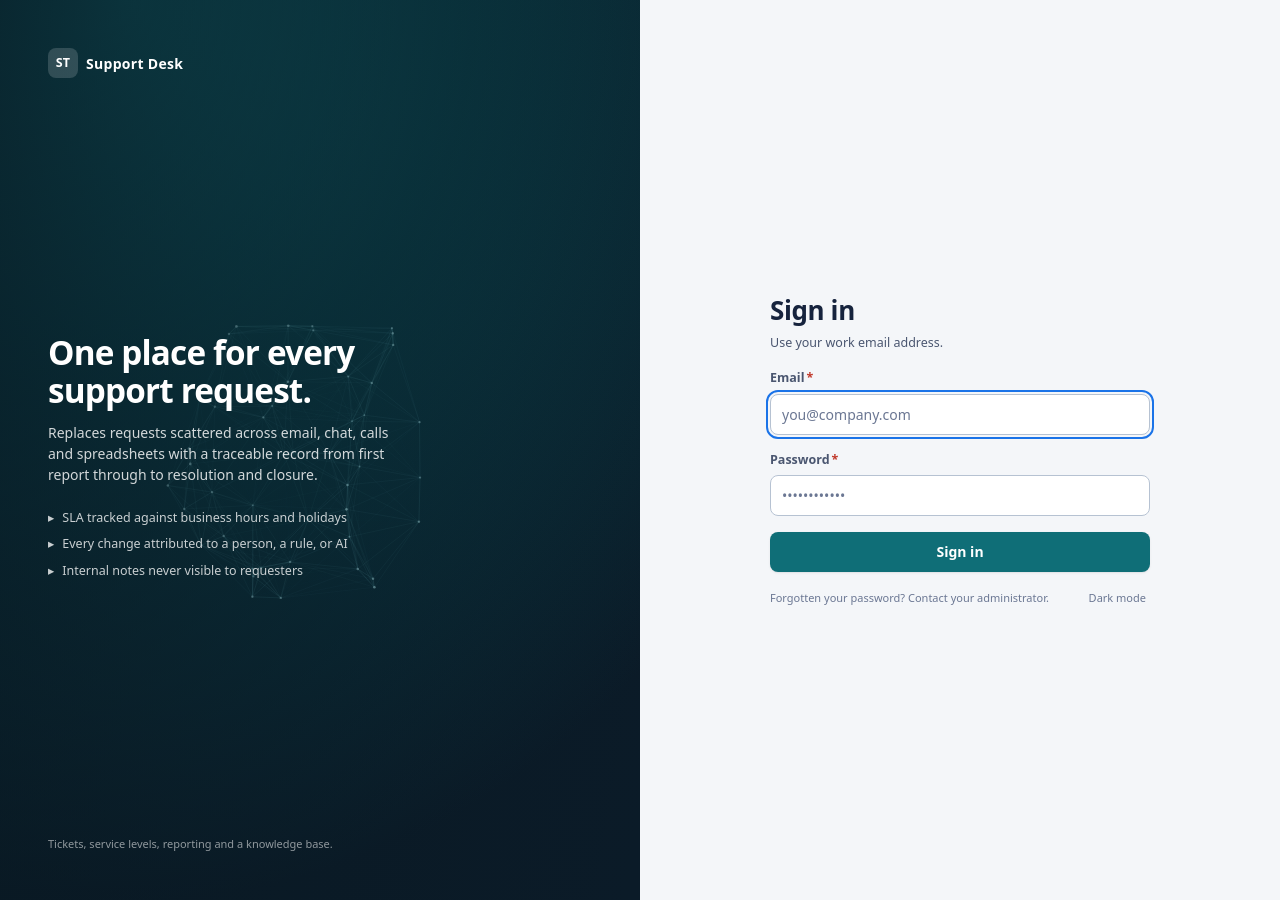
Scenario: LoginPage › does not blame the password for a failure that never reached the credential check
This screenshot has width=1280, height=900.
In the field labelled "Email*": (960, 414) 770,394 -> 1150,435, type "someone@itg.test"
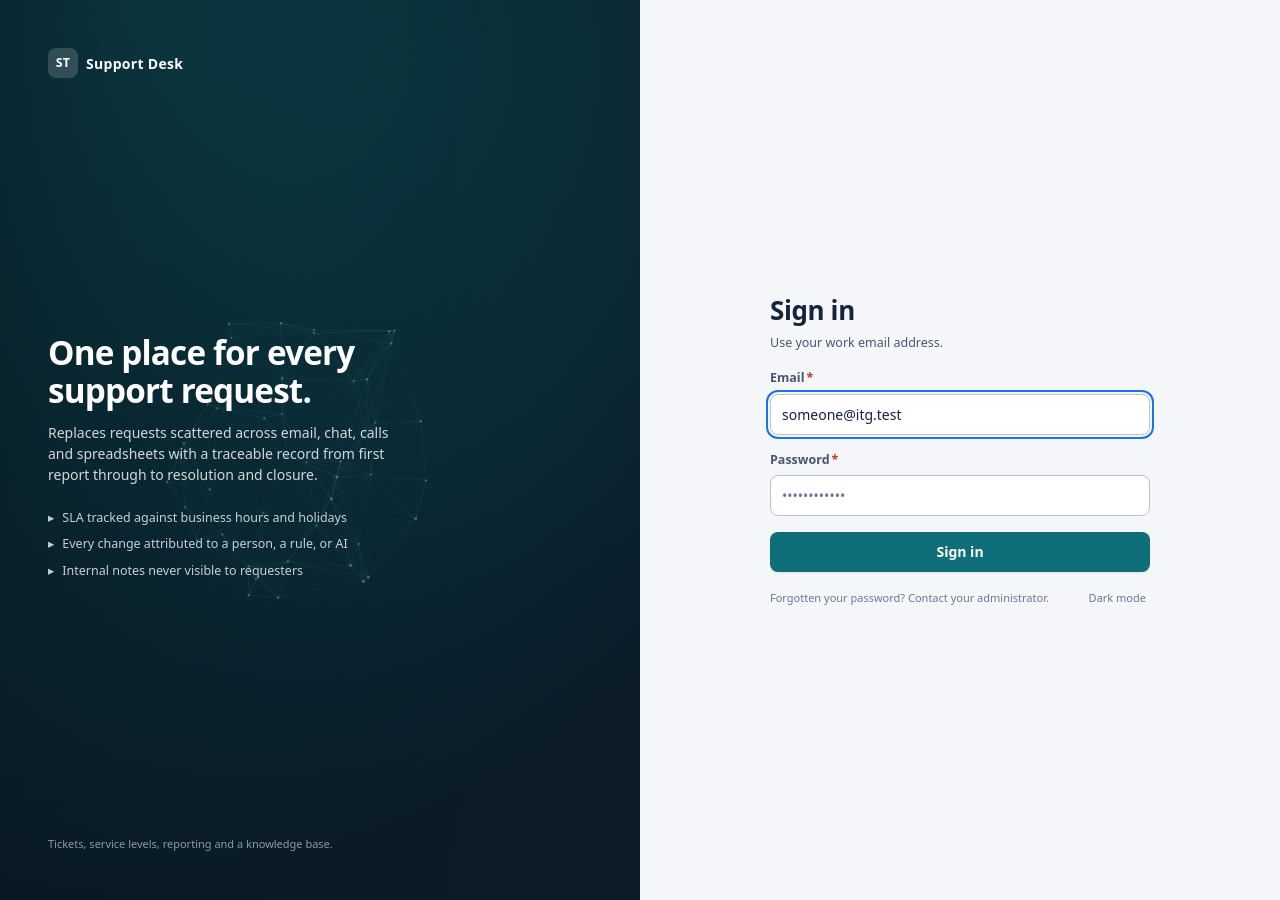
In the password field labelled "Password*": (960, 496) 770,475 -> 1150,516, type "AnyPassword1!"
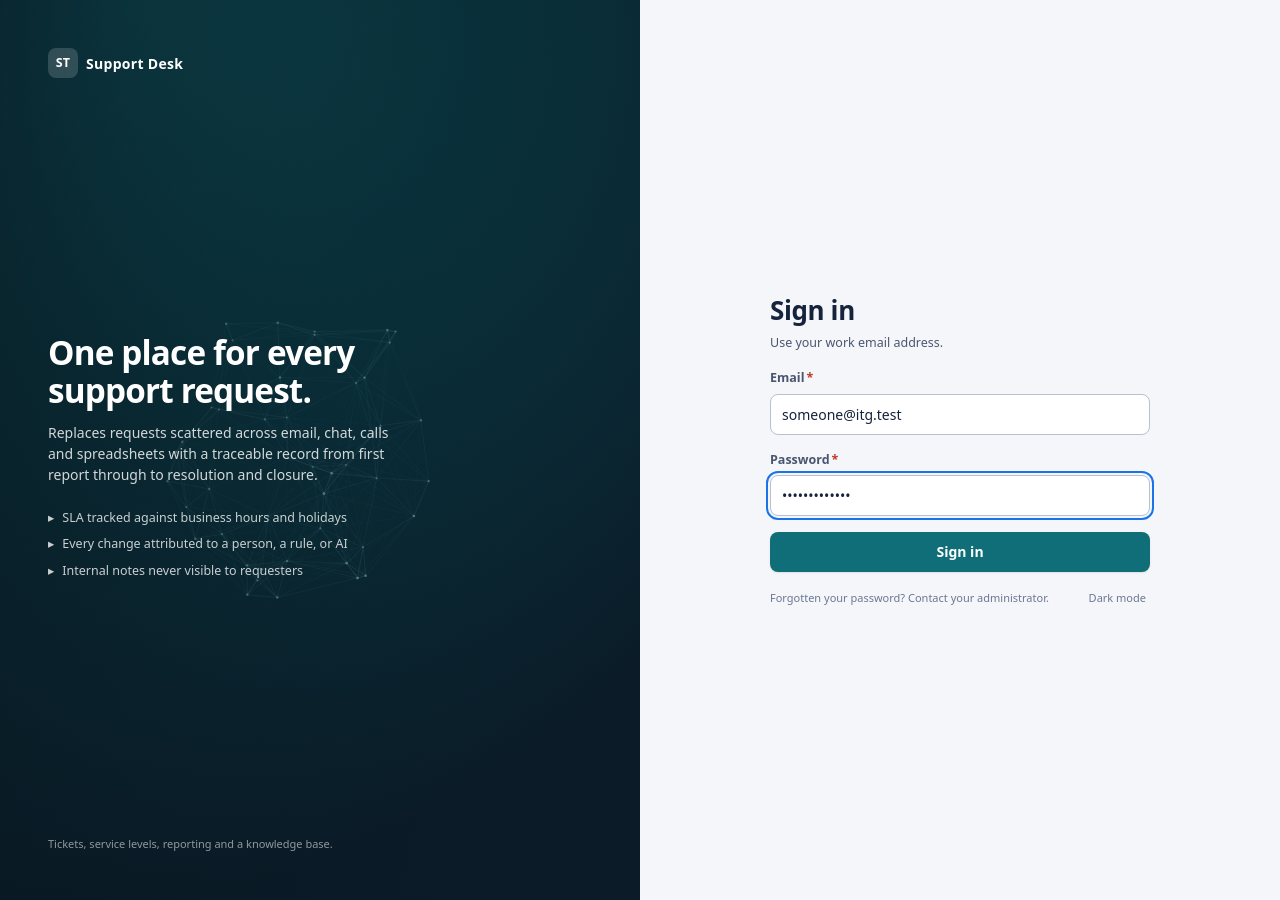
Click the button "Sign in": (960, 552) 770,532 -> 1150,572
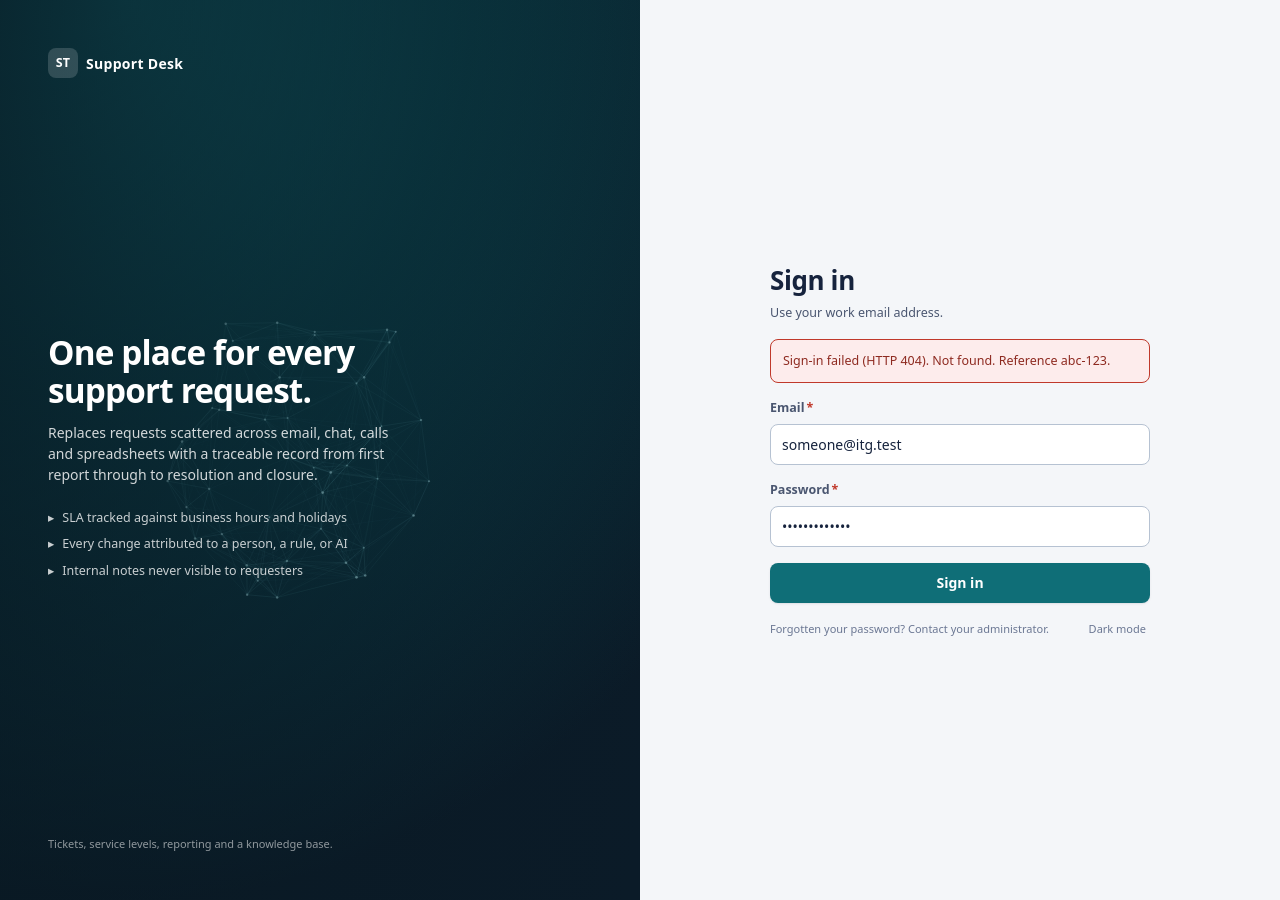
Expected: the message does not show "password is incorrect", 770,338 -> 1150,383
Result: the message shows "HTTP 404" at 783,352 -> 1110,368
Result: the message shows "abc-123" at 783,352 -> 1110,368
